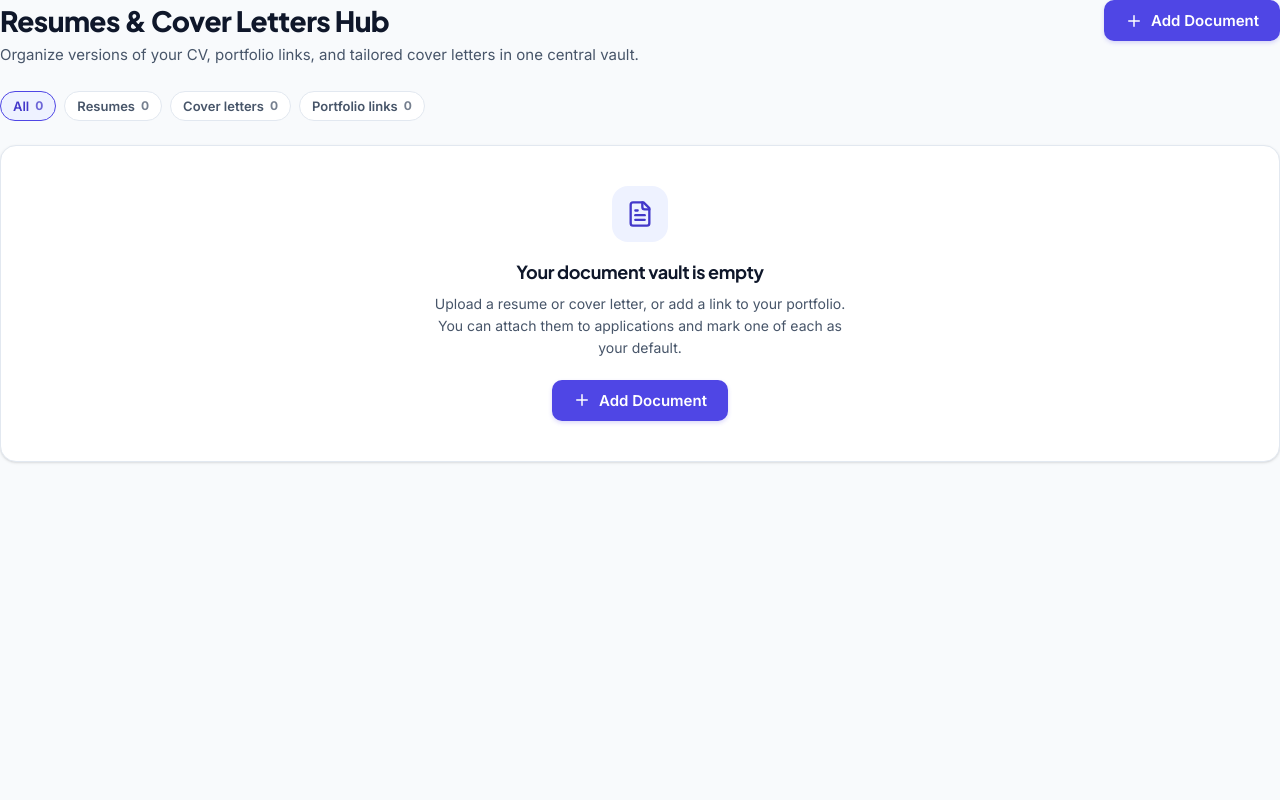
adding a document › swaps the file input for a URL input when the type changes
Click the button "Add Document" in the row of "Resumes & Cover Letters Hub": (1192, 20) [1104, 0, 1279, 41]
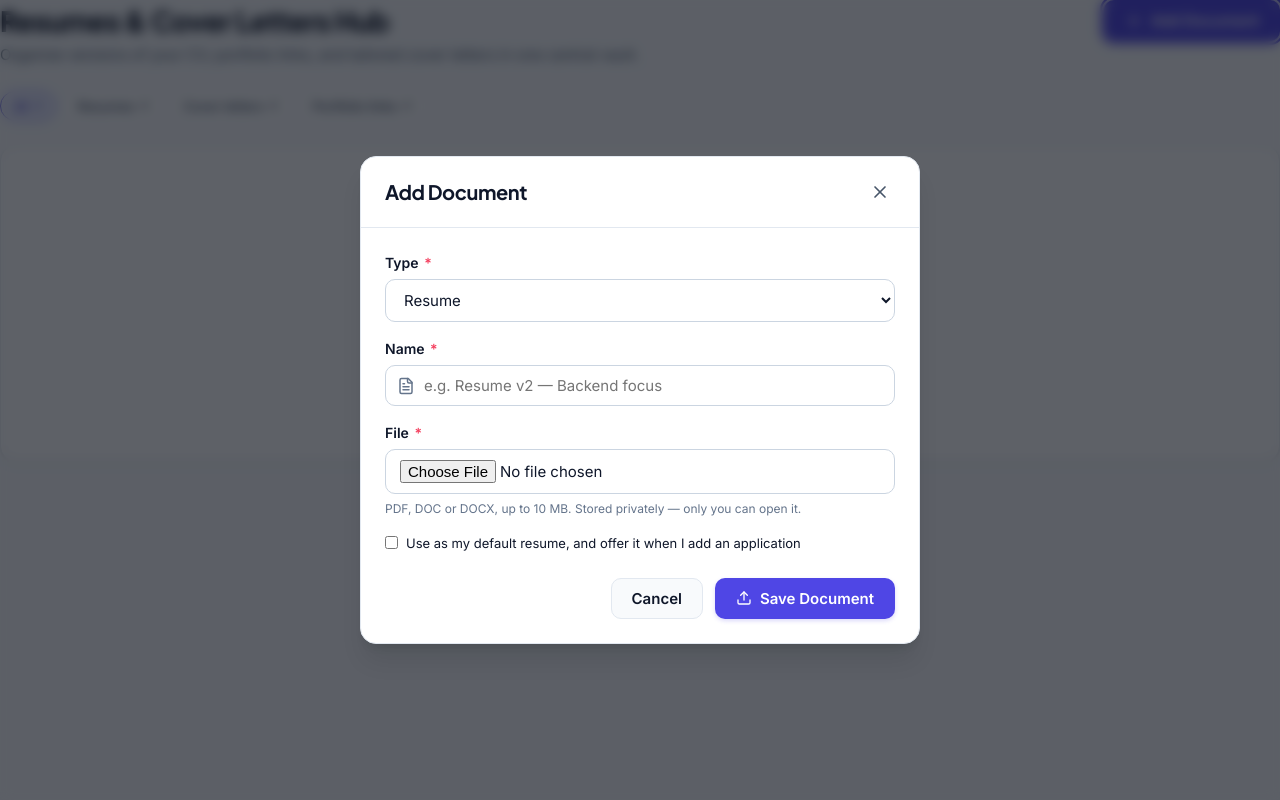
expect the file field labelled "File *" is shown: met, box [385, 449, 895, 494]
Select "Portfolio link" in the dropdown labelled "Type *": (640, 301) [385, 279, 895, 322]
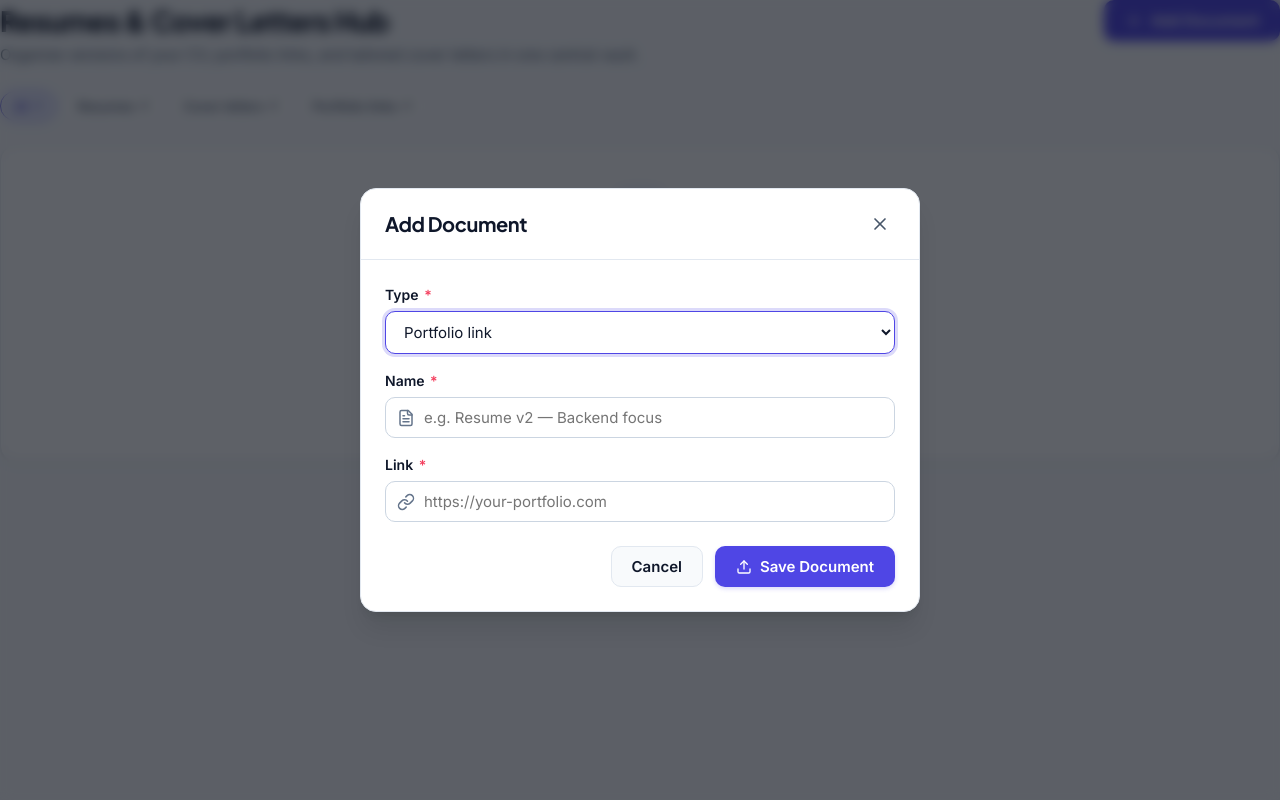
expect the label labelled "File" is gone: met
expect the field labelled "Link *" is shown: met, box [385, 481, 895, 522]
